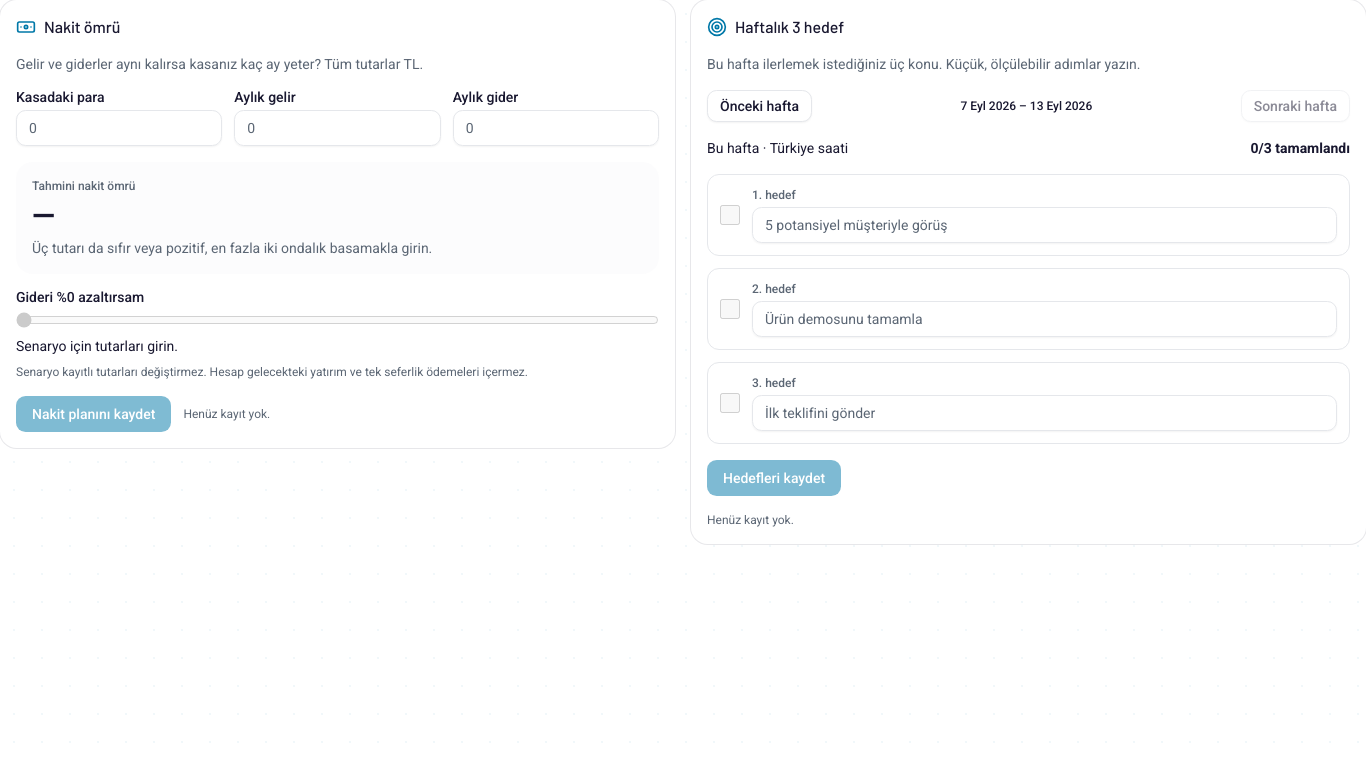
Scenario: Girişimci araçları › nakit değerlerini kaydeder ve sonucu gösterir
The image size is (1366, 768).
Type "120000" into the number field labelled "Kasadaki para" at (119, 128), box left=16, top=110, right=222, bottom=146
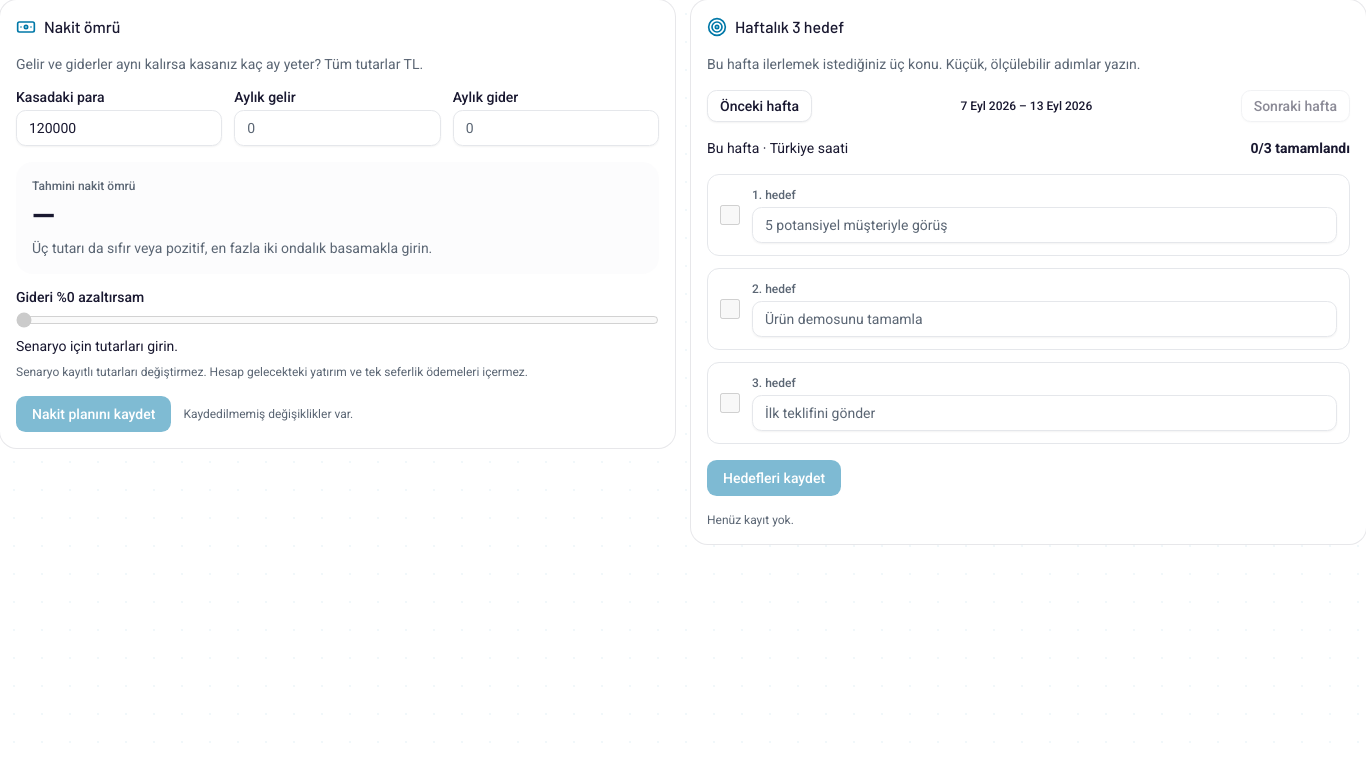
Type "10000" into the number field labelled "Aylık gelir" at (337, 128), box left=234, top=110, right=441, bottom=146
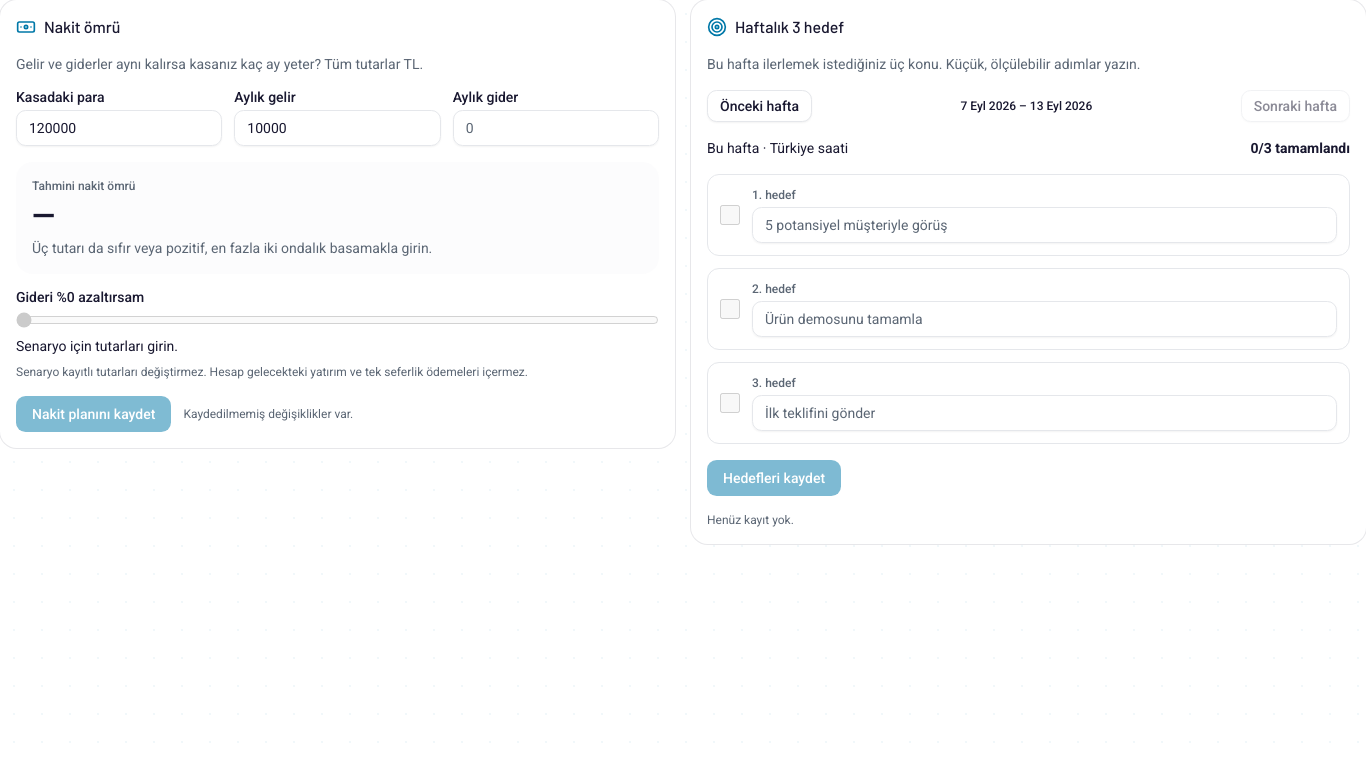
Type "30000" into the number field labelled "Aylık gider" at (556, 128), box left=453, top=110, right=659, bottom=146
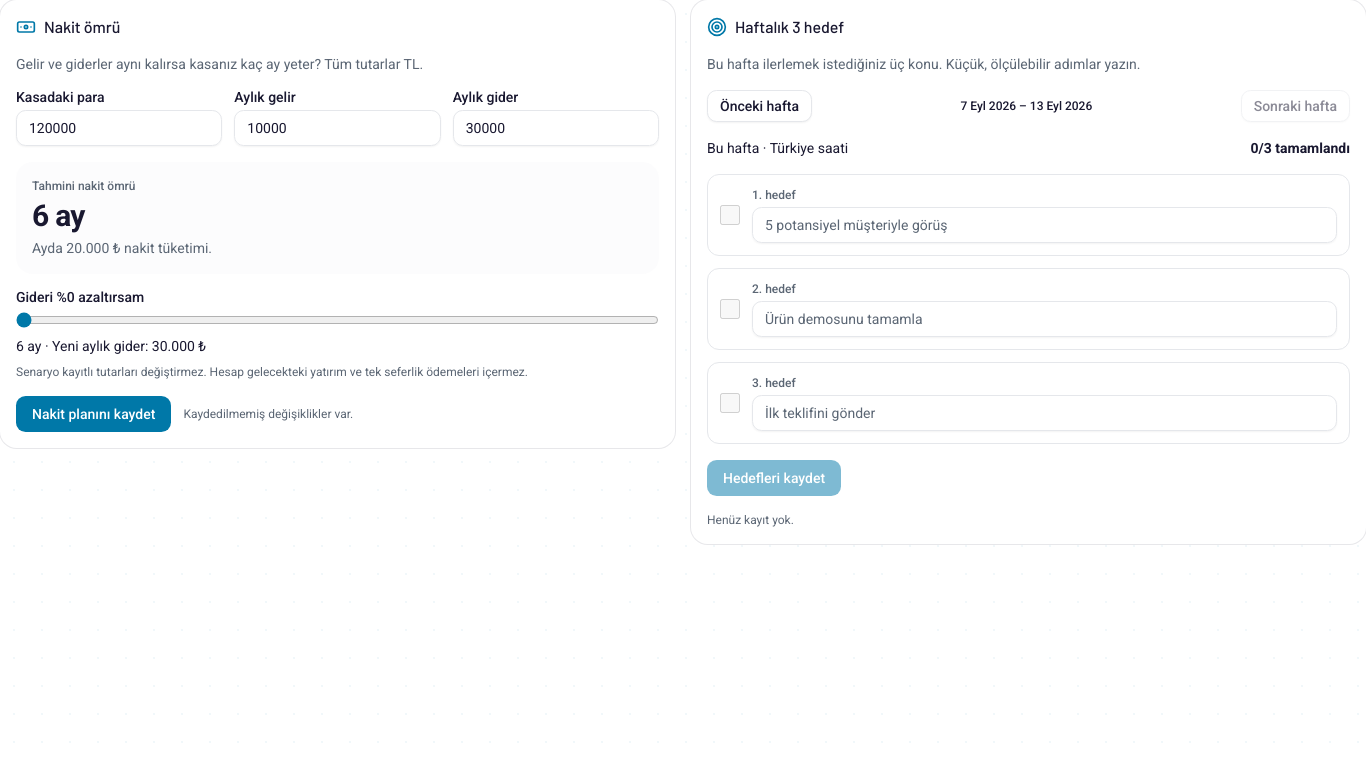
Expected: the text "6 ay" is shown, left=32, top=198, right=85, bottom=233
Set the slider labelled "Gideri %0 azaltırsam" to "20" at (275, 320), box left=16, top=312, right=659, bottom=328
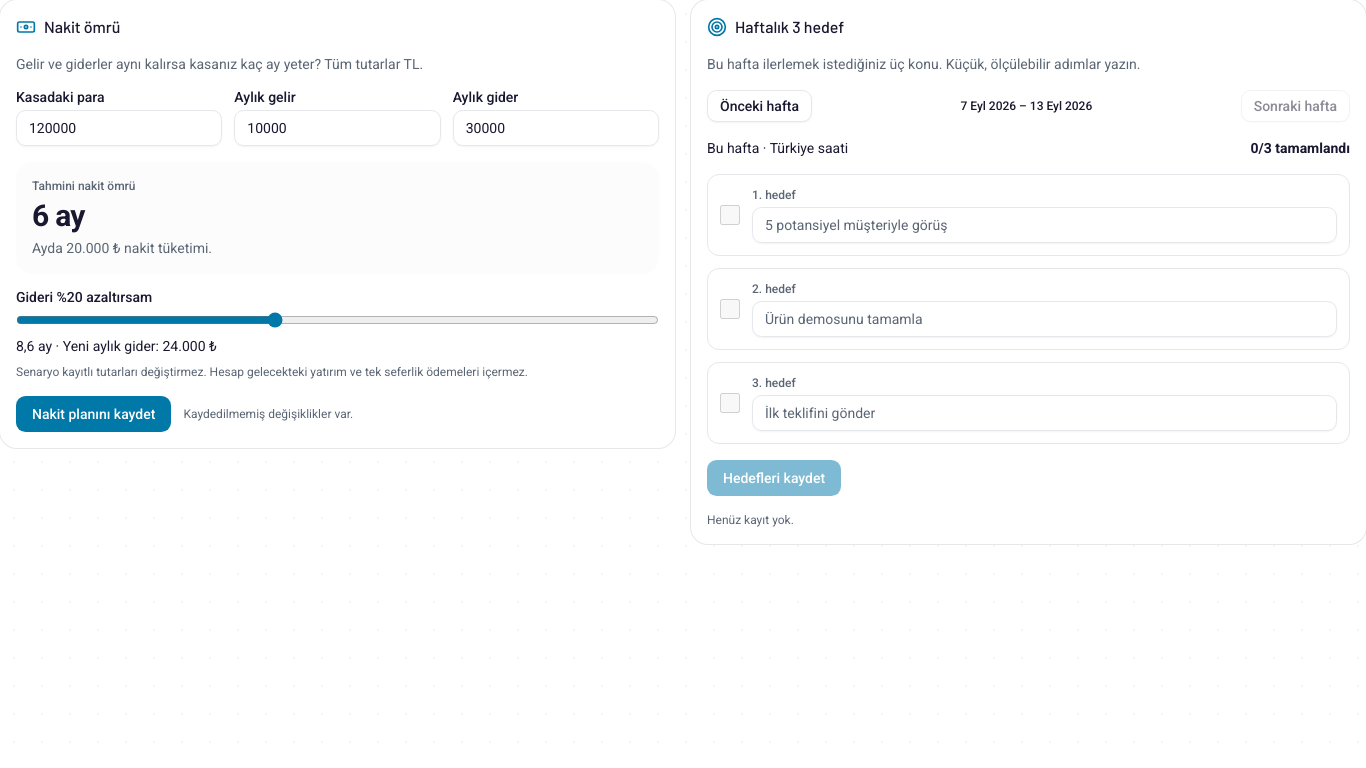
Expected: the text "8,6 ay · Yeni aylık gider: 24.000 ₺" is shown, left=16, top=338, right=217, bottom=354
Click the button "Nakit planını kaydet" at (94, 414), box left=16, top=396, right=171, bottom=432
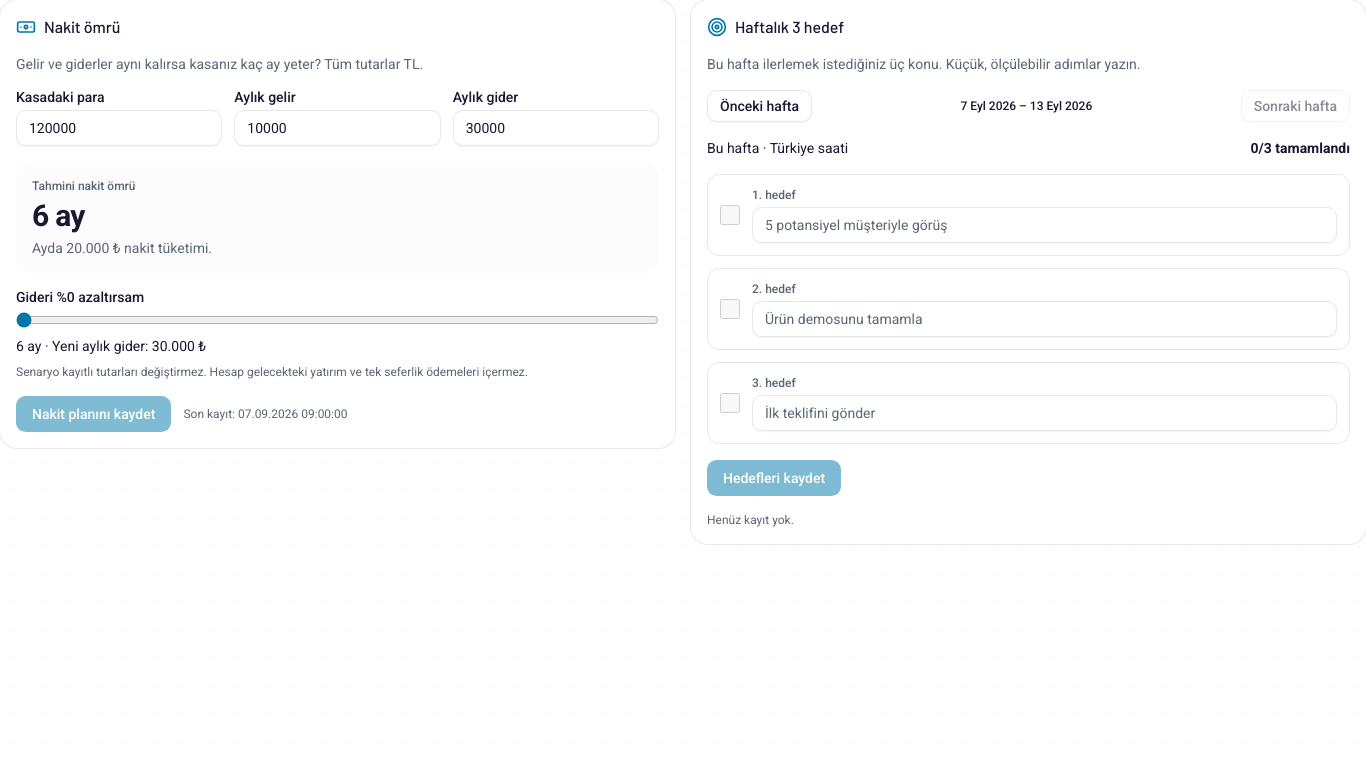
Expected: the button "Nakit planını kaydet" is disabled, left=16, top=396, right=171, bottom=432
